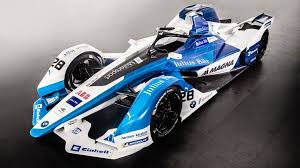f1_car: (25, 1, 278, 165)
